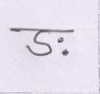anusvara: (58, 37, 63, 42)
